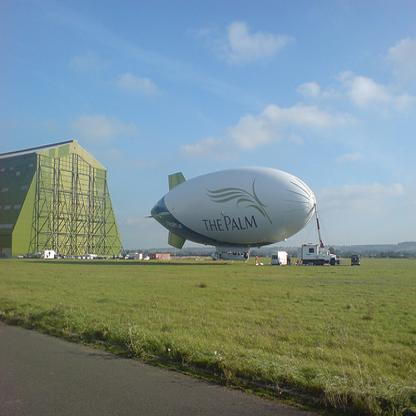Airship: (144, 171, 322, 249)
